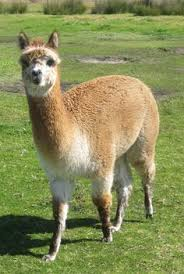alpaca: (18, 27, 160, 262)
